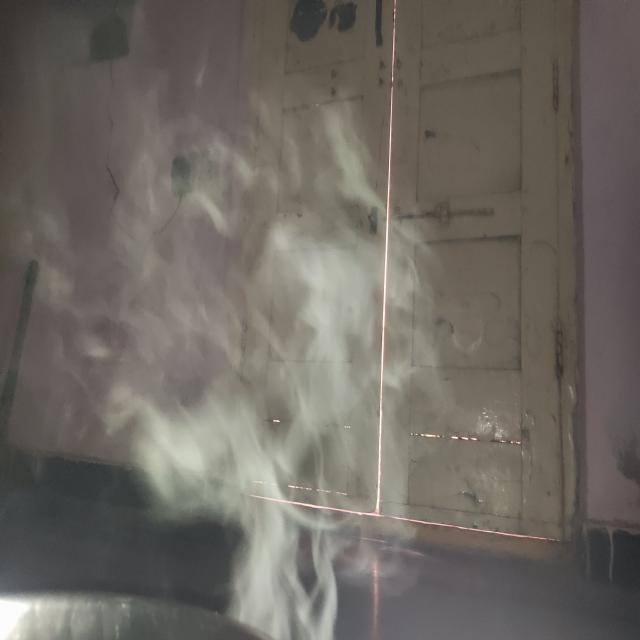smoke: (87, 184, 351, 607)
